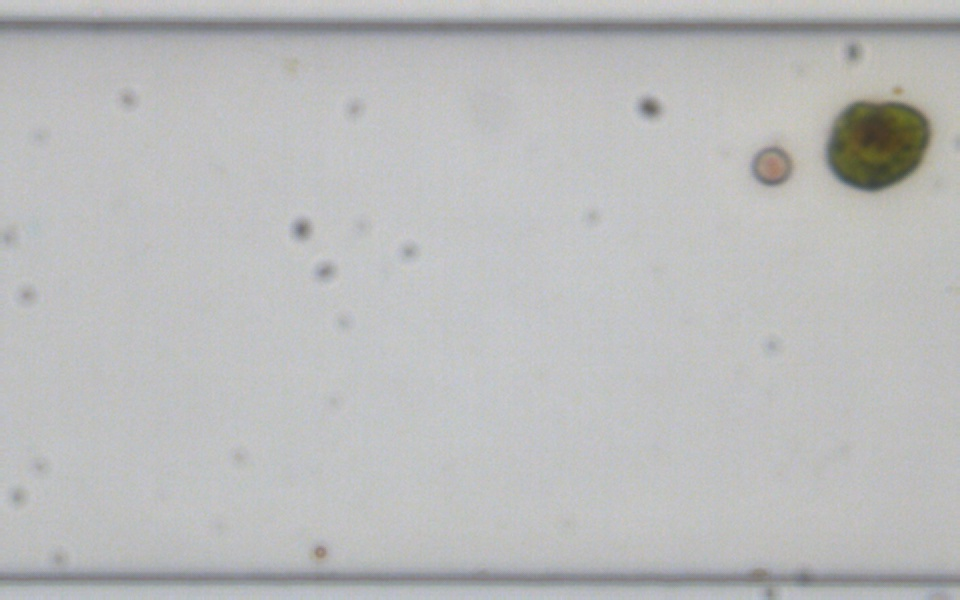Chlorella: (313, 545, 327, 558)
Haematococcus: (821, 97, 931, 192)
Porphyridium: (748, 144, 792, 186)
